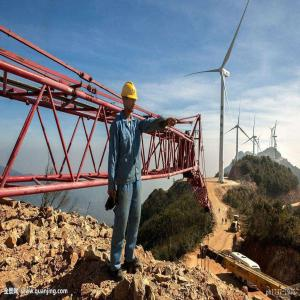yellow: (121, 82, 139, 116)
